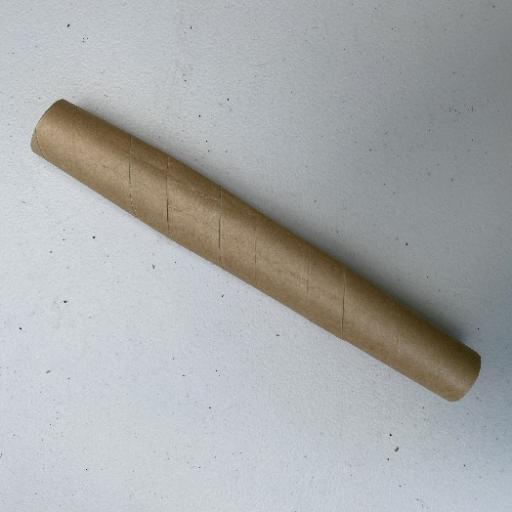Cardboard: (29, 96, 484, 404)
